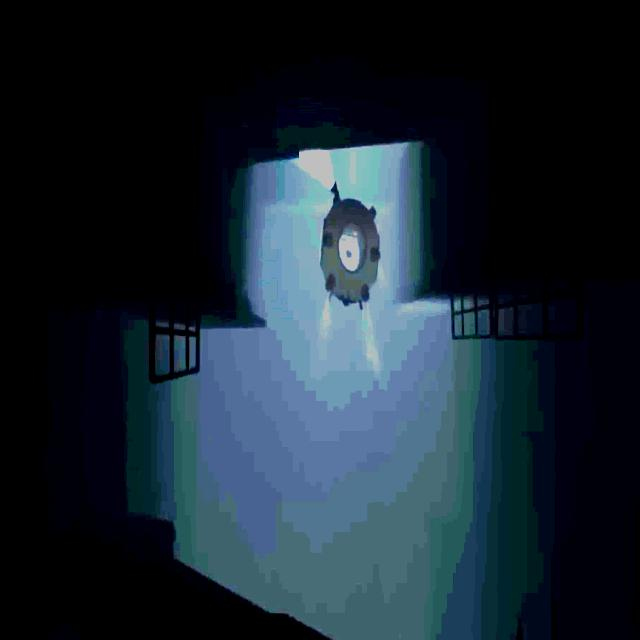boy: (344, 235, 357, 259)
submarine: (319, 180, 380, 311)
